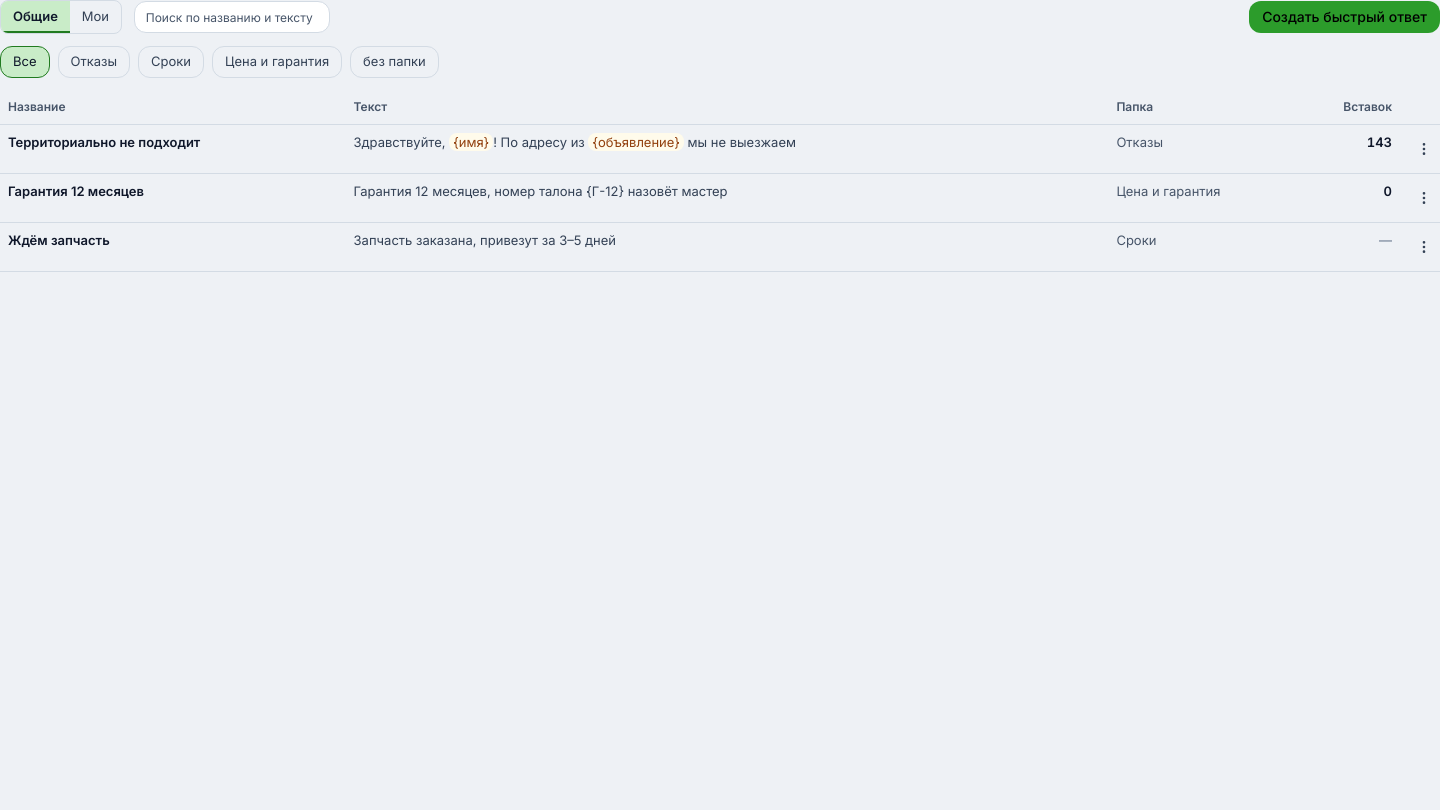
Кто видит: правило стоит там, где по нему могли бы кликнуть › при создании подсвечена область той вкладки, где стоит человек
Expected: the table is shown, [0,90,1439,272]
Click the tab "Мои": (95,17) [70,1,121,33]
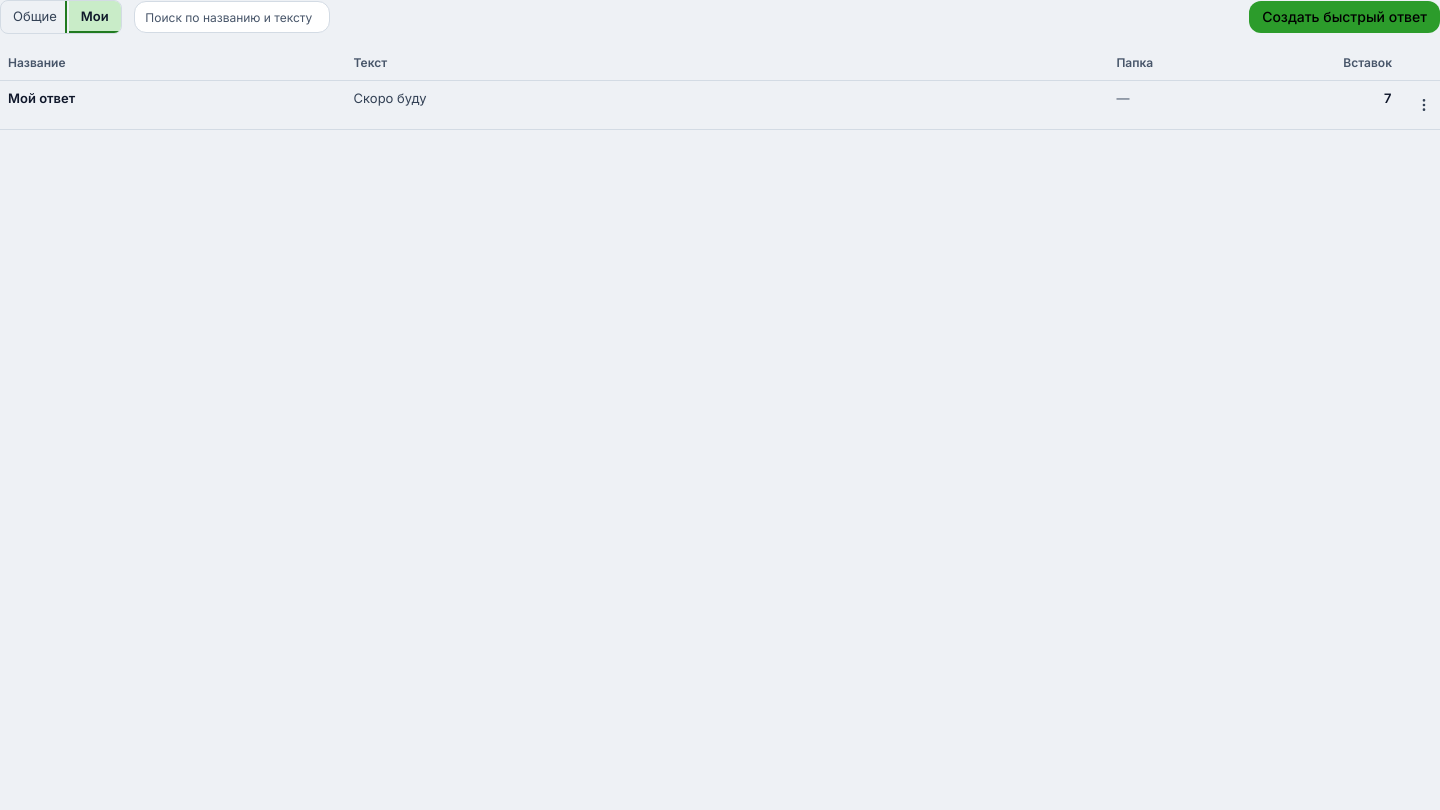
Now the text "Мой ответ" is shown, box [0,80,346,130]
Click the button "Создать быстрый ответ": (1345,17) [1249,1,1439,33]
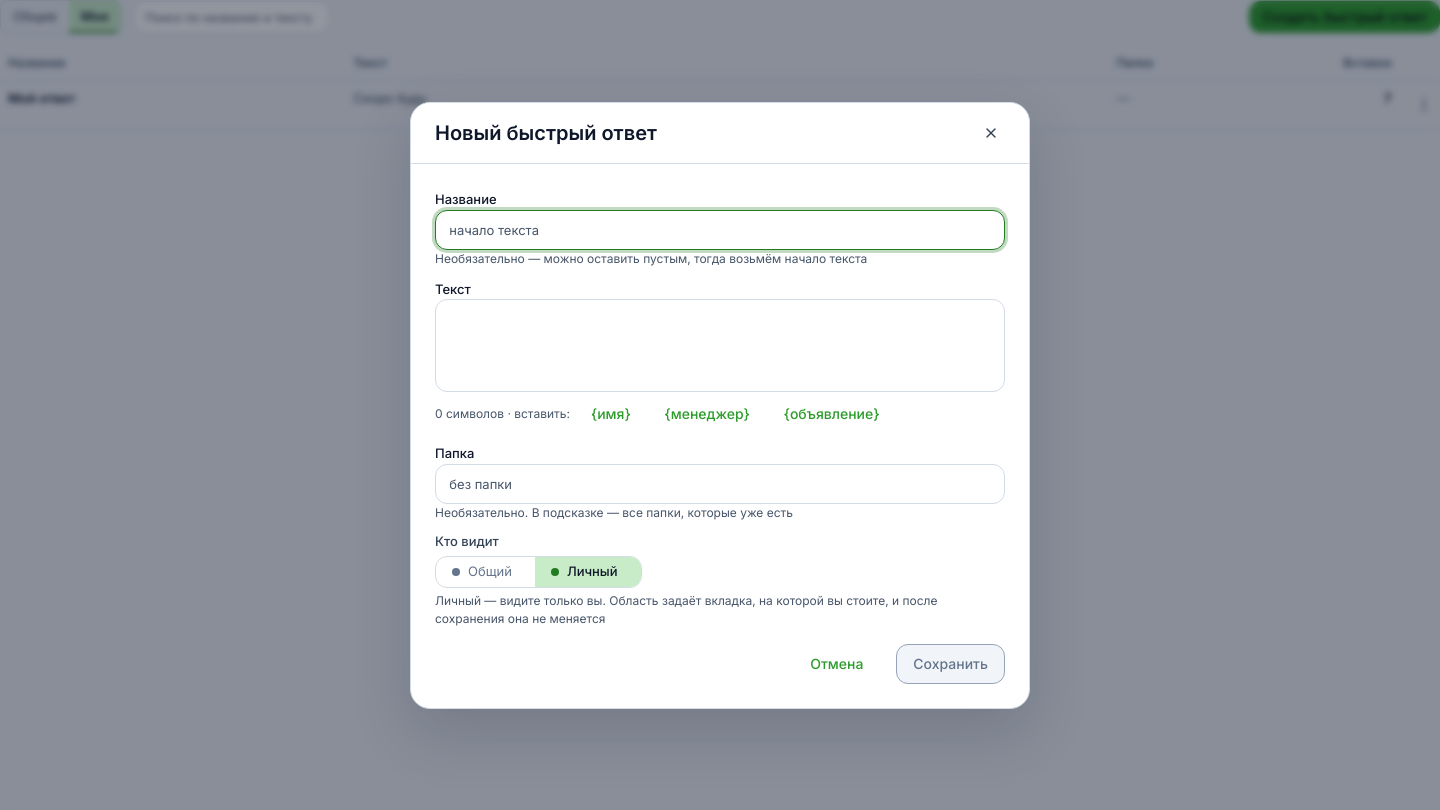
Now the element "Кто видит" shows "Область задаёт вкладка", box [435,592,938,625]
